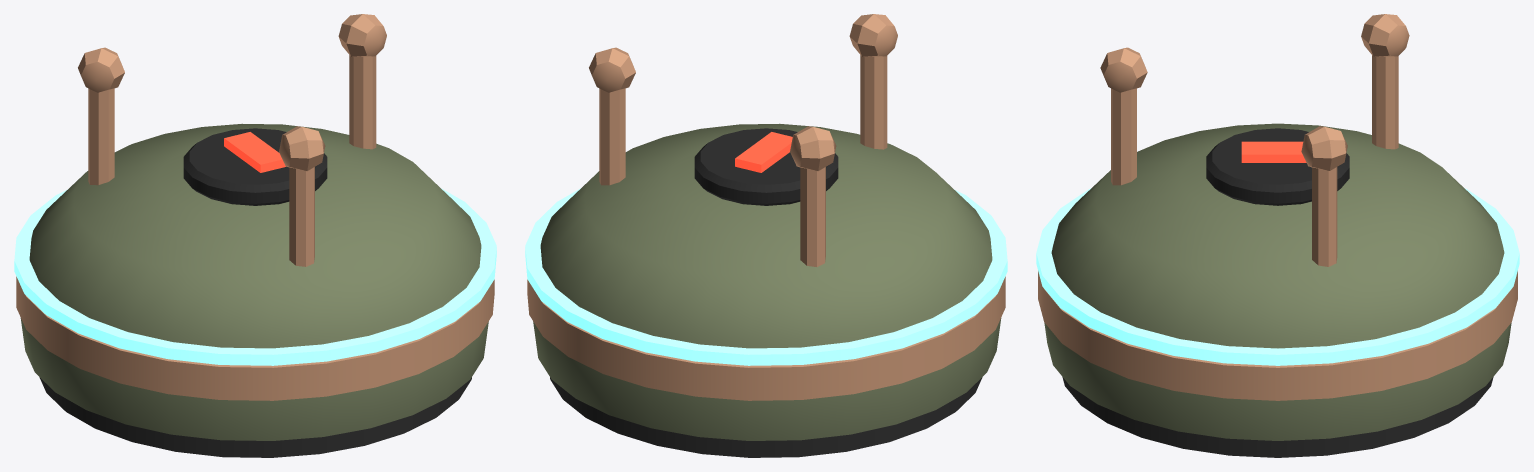
Rendered from emp_trap.glb.
3 renders of one model, left to right at view 1: azimuth 30°, elevation 25°; view 2: azimuth 150°, elevation 25°; view 3: azimuth 270°, elevation 25°, orthographic.
Visible parts, largest first — view 1: body; view 2: body; view 3: body.
Boxes of the visible parts, x1,y1,x2,y2 form: body: [14, 14, 496, 457]; body: [525, 14, 1007, 457]; body: [1036, 14, 1519, 457].
Bounding box in the file's own units: 0.0796 × 0.055 × 0.0796.
